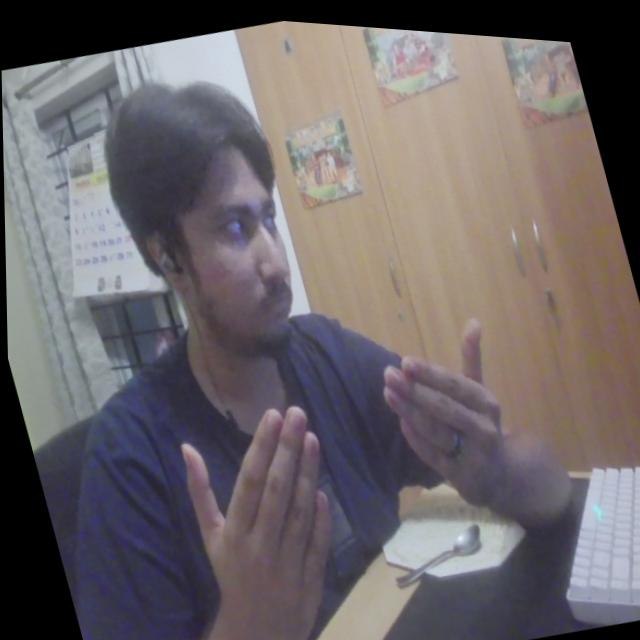thankyou: (145, 282, 561, 640)
